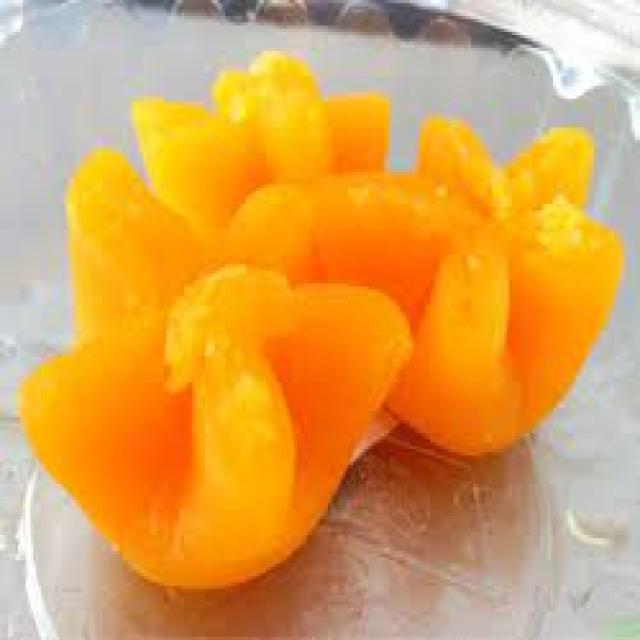Tongyib: (32, 161, 350, 597), (358, 90, 630, 478), (158, 65, 376, 366)
